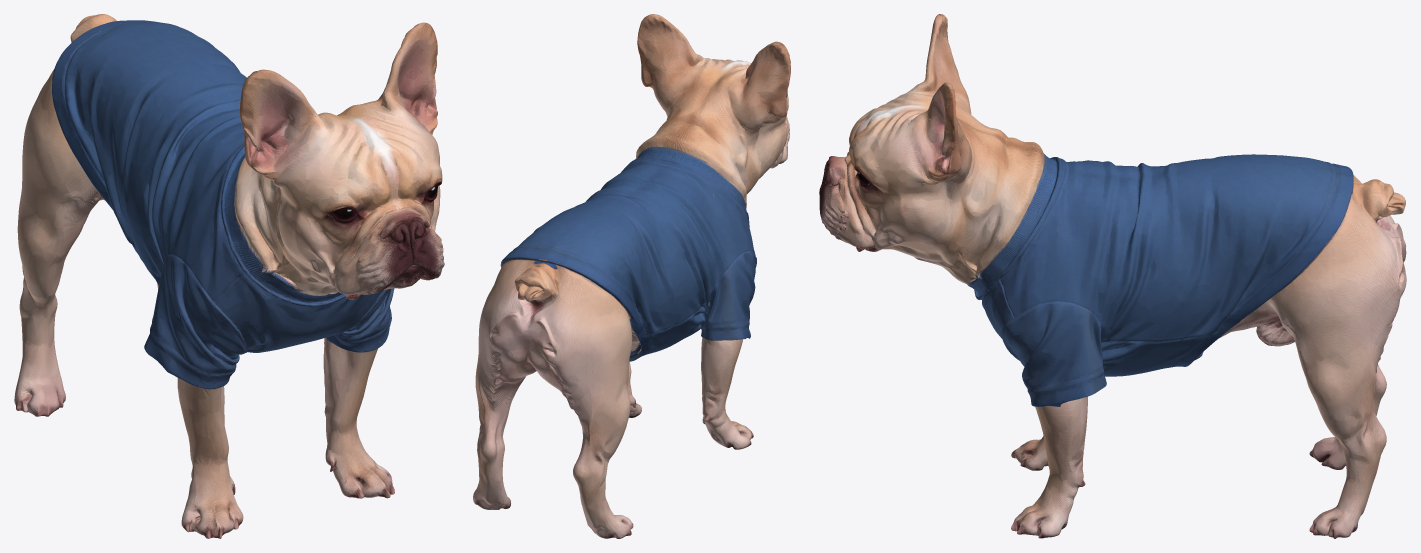
Rendered from zhuangzhuang-standing-blue-tee.glb.
The picture shows the model from 3 angles, left to right: view 1: azimuth 30°, elevation 25°; view 2: azimuth 150°, elevation 25°; view 3: azimuth 270°, elevation 25°; orthographic projection. The views are drawn at different scales.
Parts seen in each view (by area): view 1: Mesh_0; view 2: Mesh_0; view 3: Mesh_0.
Boxes of the visible parts, x1,y1,x2,y2 form: Mesh_0: (14, 14, 444, 538); Mesh_0: (473, 14, 790, 538); Mesh_0: (819, 14, 1406, 538).
Bounding box in the file's own units: 0.1956 × 0.4 × 0.4771.
1 material, 1 textured.
